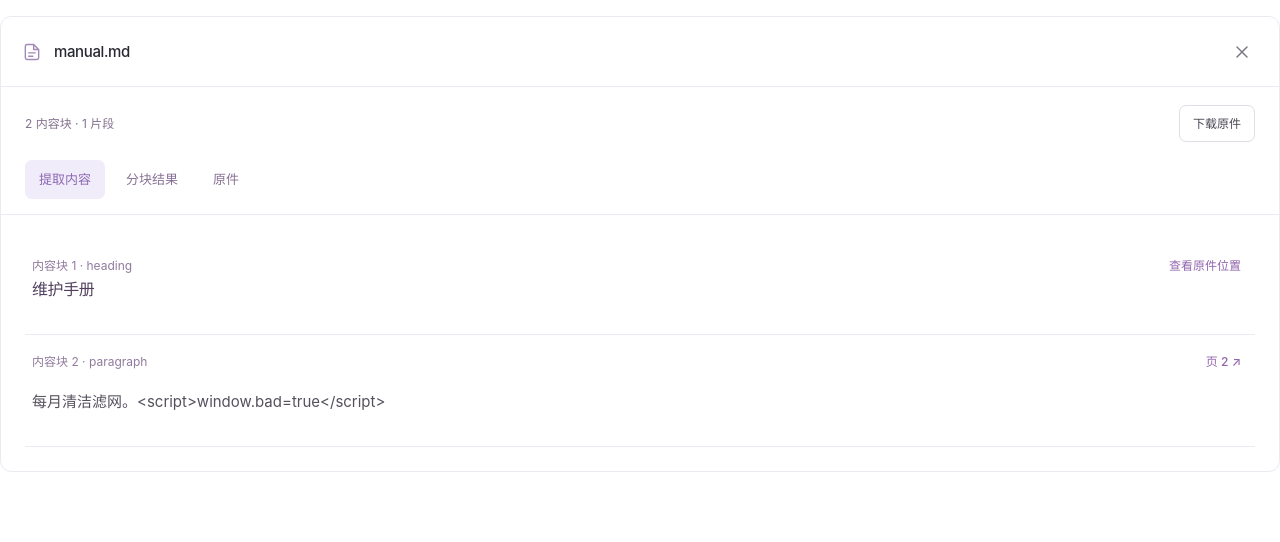
Document reader › renders document text safely and navigates from a chunk to its source block
Check: the heading "维护手册" is shown, box [32, 279, 94, 299]
Check: the text "每月清洁滤网。<script>window.bad=true</script>" is shown, box [32, 392, 385, 411]
Click the button "分块结果": [152, 180] box [112, 160, 192, 199]
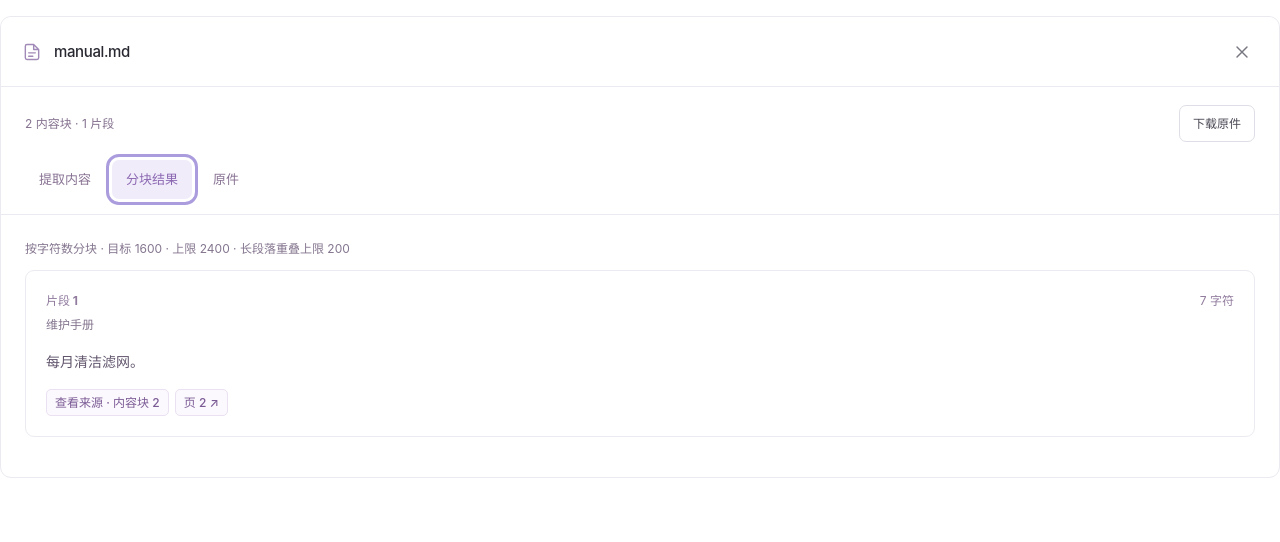
Check: the text "按字符数分块 · 目标 1600 · 上限 2400 · 长段落重叠上限 200" is shown, box [25, 241, 350, 256]
Click the button "查看来源 · 内容块 2": [107, 403] box [46, 389, 169, 416]
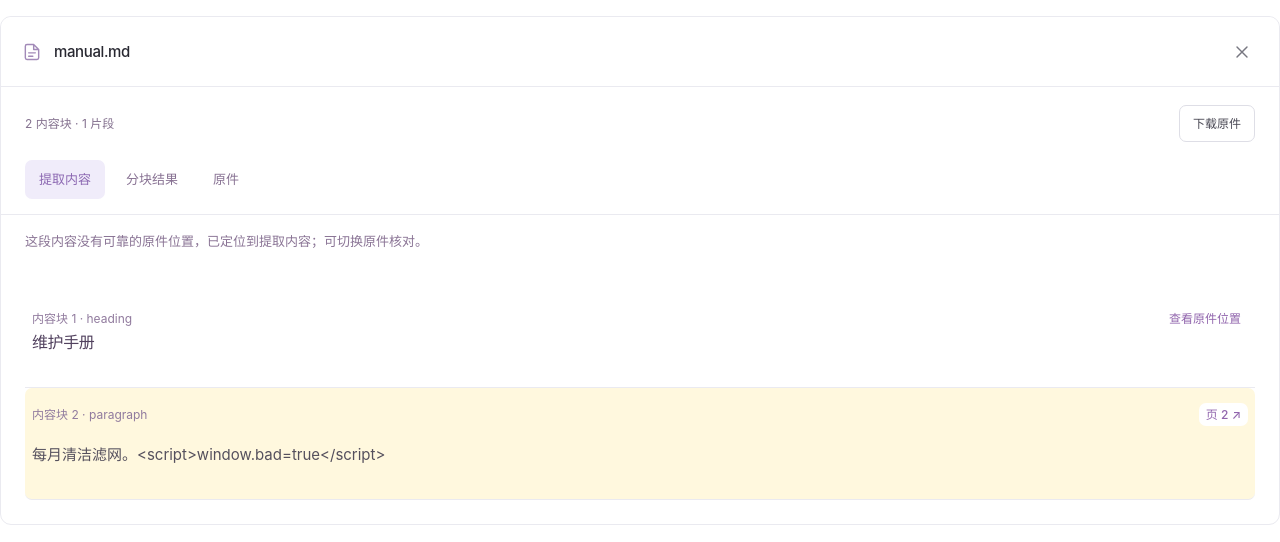
Check: the element with class "highlighted" shows "每月清洁滤网", box [32, 445, 385, 464]
